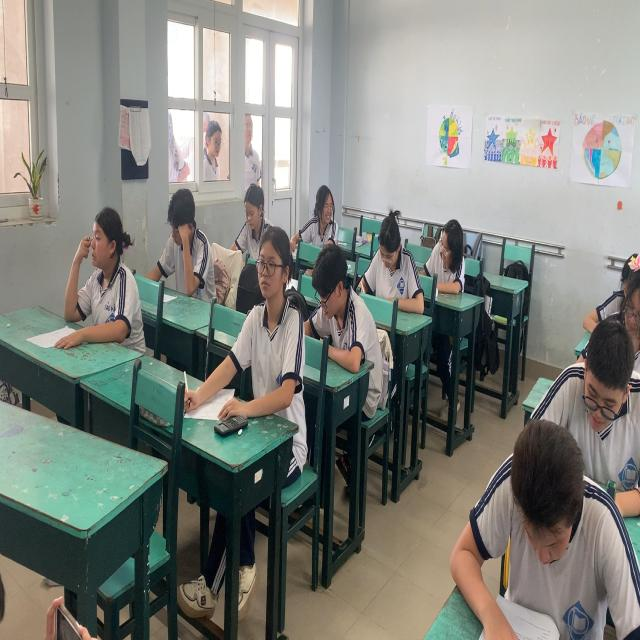cheating: (204, 208, 314, 446), (286, 223, 386, 423)
not_cheating: (412, 472, 619, 640), (34, 169, 158, 391), (519, 412, 640, 615), (134, 148, 226, 330), (563, 320, 640, 496), (341, 190, 428, 344), (396, 197, 481, 346), (215, 156, 301, 299), (268, 162, 349, 301), (599, 258, 640, 438)
